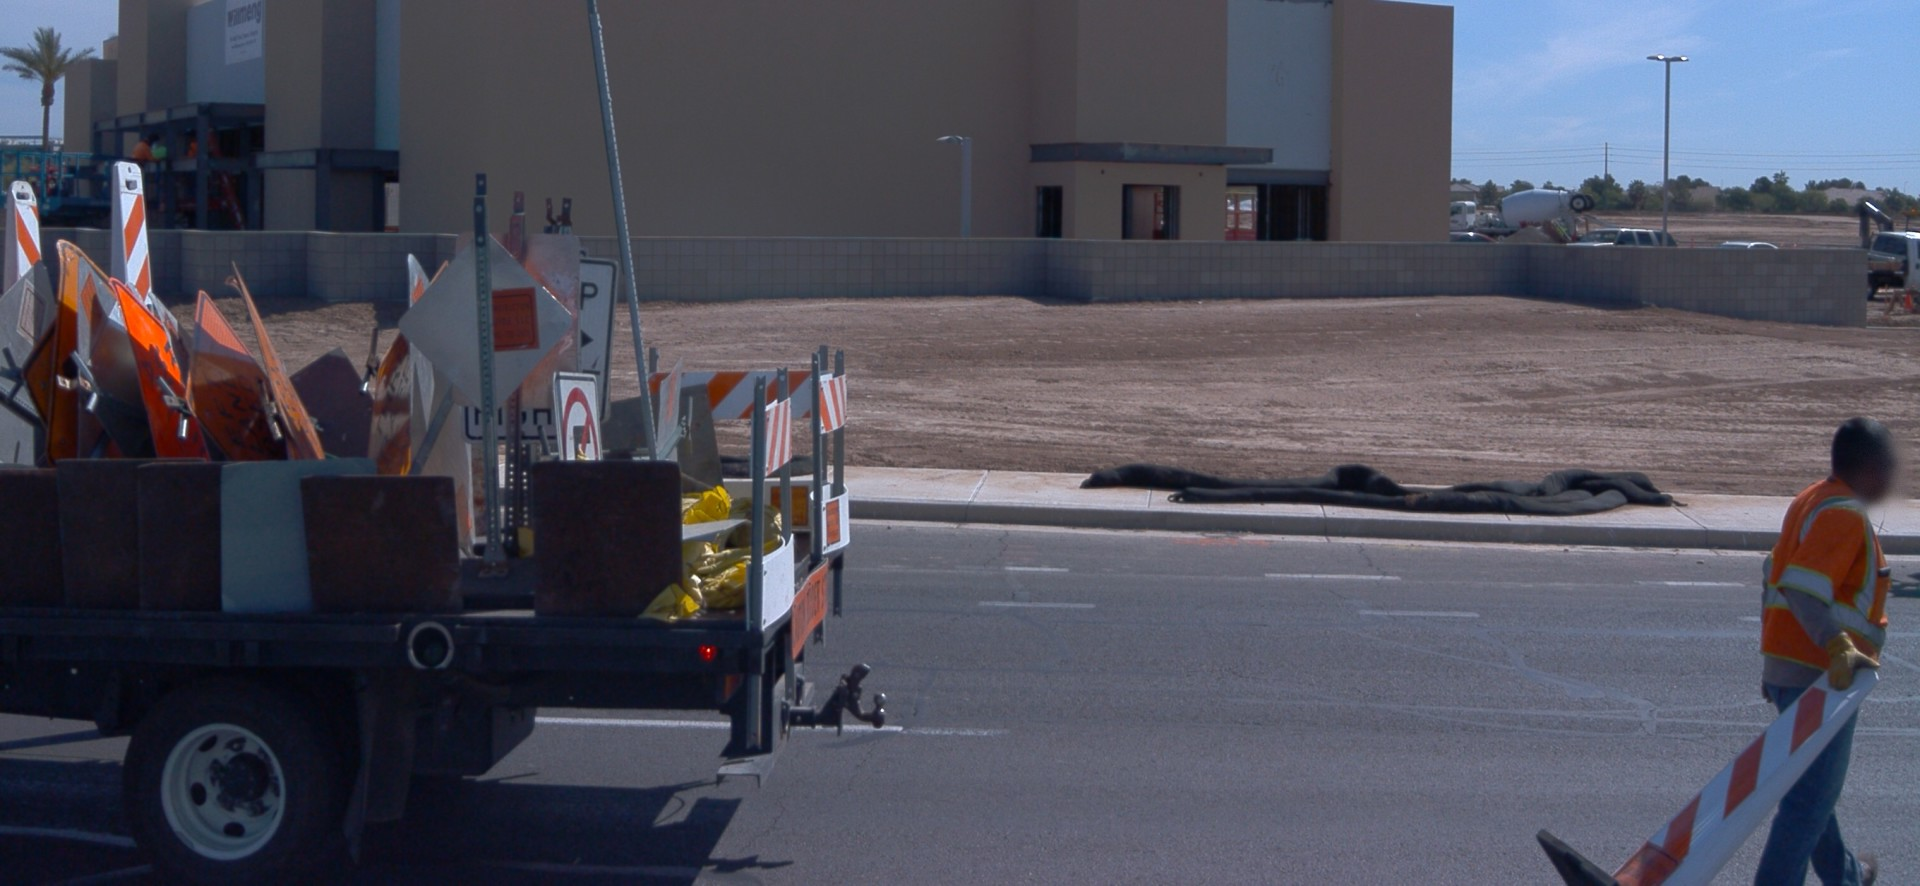TYPE_PEDESTRIAN: (1751, 414, 1900, 886), (1558, 220, 1570, 242)
TYPE_VEHICLE: (3, 128, 881, 886), (1448, 181, 1623, 238), (1861, 233, 1920, 299), (1857, 197, 1918, 249), (1565, 229, 1678, 249), (1523, 217, 1587, 247), (1448, 230, 1500, 251), (1718, 241, 1780, 253)
